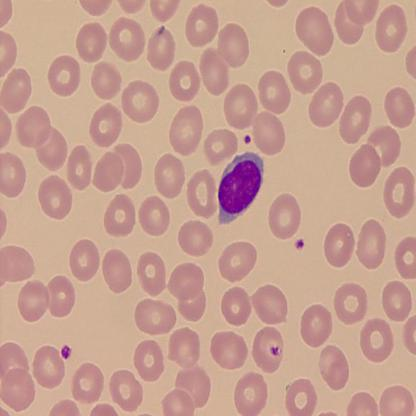Lymphocyte: (218, 150, 265, 226)
